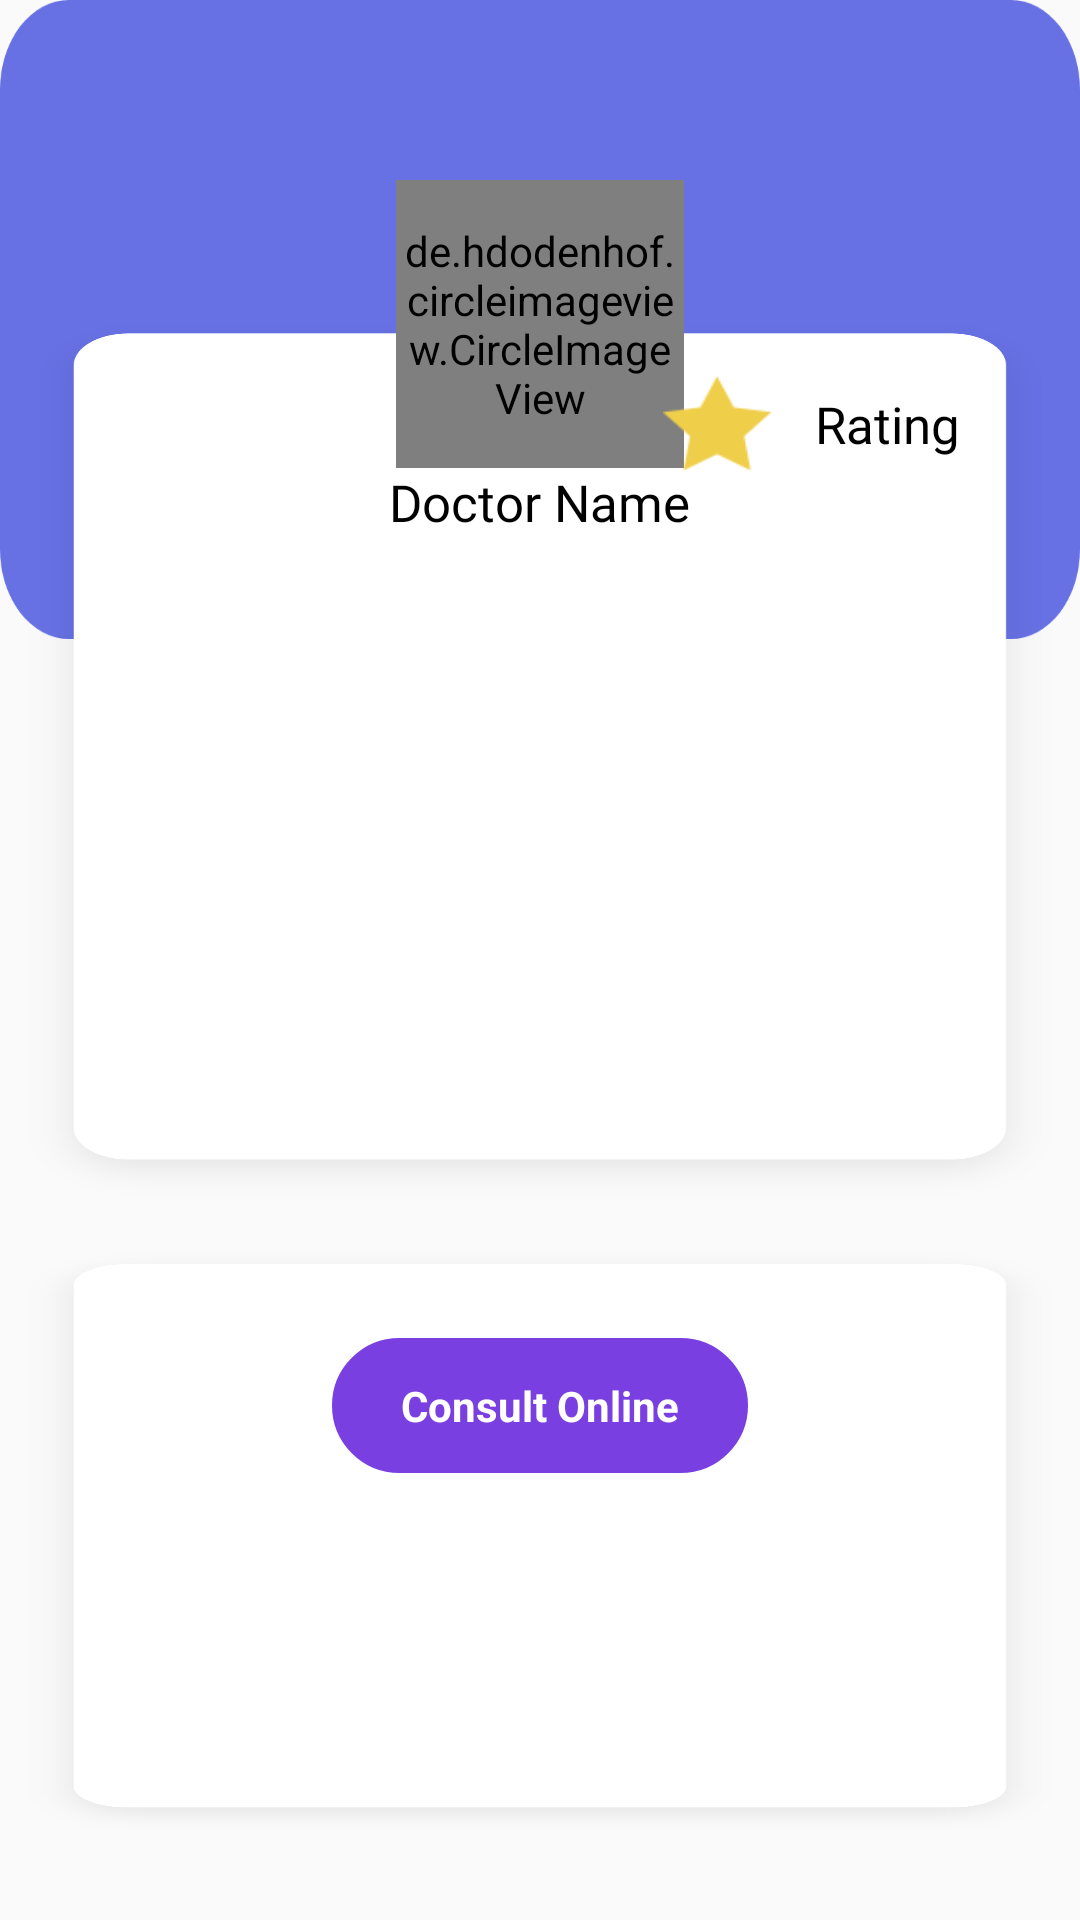

Screen size 1080 x 1920. Icon name, then its box in pixels as (x1, y1, x2, y2):
star: (663, 375, 771, 471)
